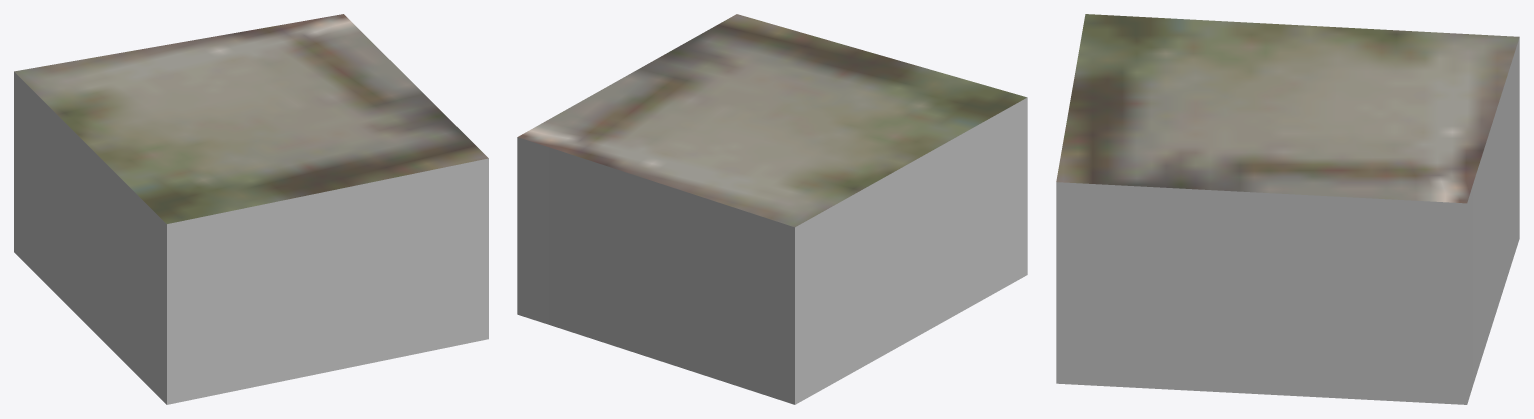
The model's file is DEBW_0010007Tx4U.gltf.
3 renders of one model, left to right at view 1: azimuth 30°, elevation 25°; view 2: azimuth 150°, elevation 25°; view 3: azimuth 270°, elevation 25°, orthographic. The views are drawn at different scales.
Parts seen in each view (by area): view 1: Z_UP; view 2: Z_UP; view 3: Z_UP.
Boxes of the visible parts, x1=… form: Z_UP: x1=14, y1=14, x2=488, y2=404; Z_UP: x1=517, y1=14, x2=1027, y2=404; Z_UP: x1=1056, y1=14, x2=1519, y2=404.
Bounding box in the file's own units: 6.14 × 3.05 × 6.35.
2 materials, 1 textured.
